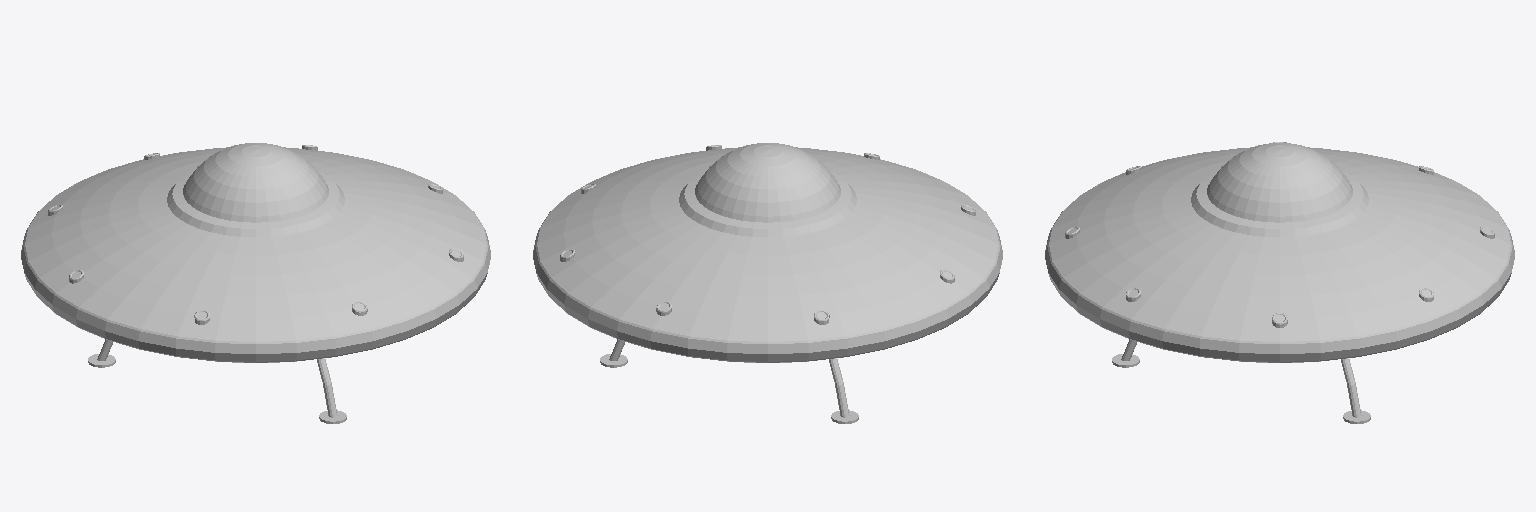
The model's file is 1352 Flying Saucer.obj.
3 views of the same model, side by side, from view 1: azimuth 30°, elevation 25°; view 2: azimuth 150°, elevation 25°; view 3: azimuth 270°, elevation 25° (orthographic).
Parts seen in each view (by area): view 1: Flying_Saucer; view 2: Flying_Saucer; view 3: Flying_Saucer.
Boxes of the visible parts, x1,y1,x2,y2 form: Flying_Saucer: [21, 143, 490, 423]; Flying_Saucer: [533, 143, 1002, 423]; Flying_Saucer: [1045, 142, 1514, 423].
Size of the model in its own units: 89.43 by 44.37 by 89.43.